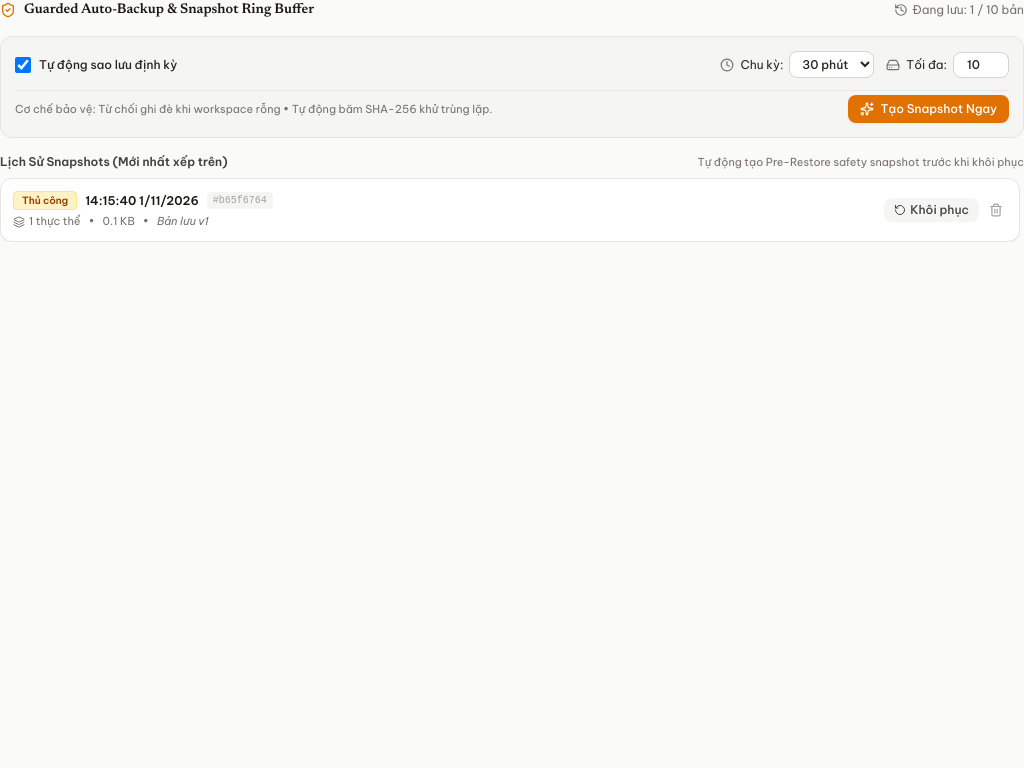
PR 1 (Phase 25): Auto-Backup Restore Safety & Confirmation Gate › Test 2: When user clicks "Hủy" (Cancel) in confirmation dialog, modal closes and restore is NOT executed
// Open confirmation modal
Click the button "Khôi phục": {"x": 932, "y": 210} [884,198,979,222]
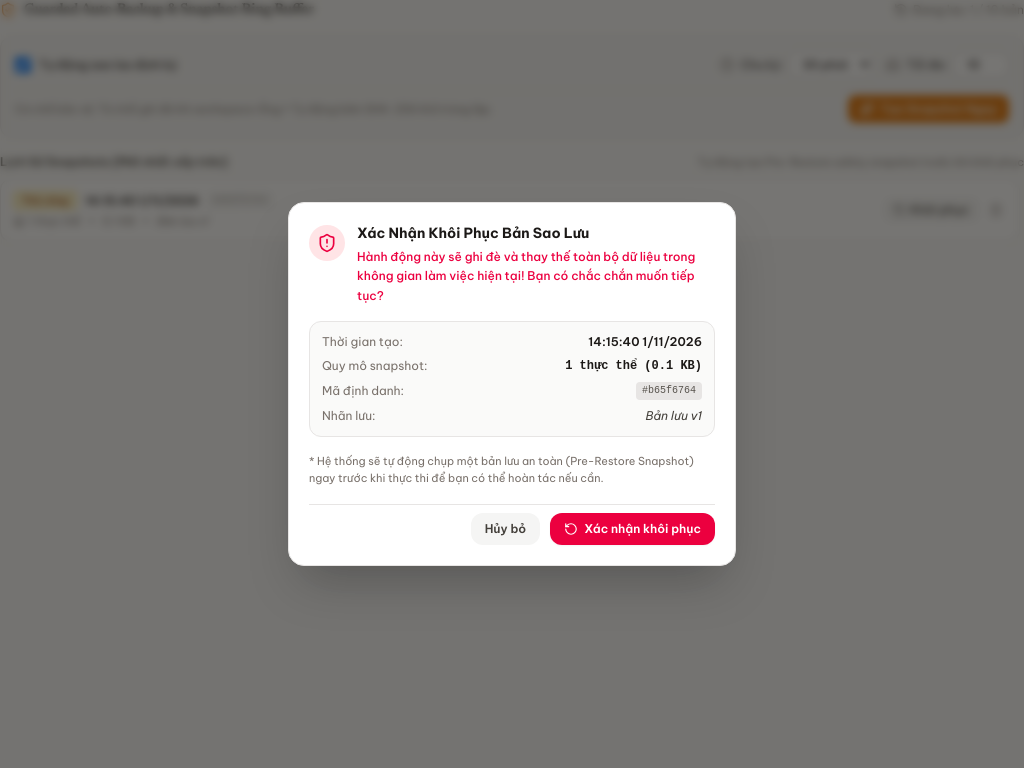
Now the dialog with test id "auto-backup-restore-confirm-dialog" is shown
// Click cancel button
Click the button with test id "auto-backup-restore-cancel-btn": {"x": 505, "y": 529} [471,513,540,545]
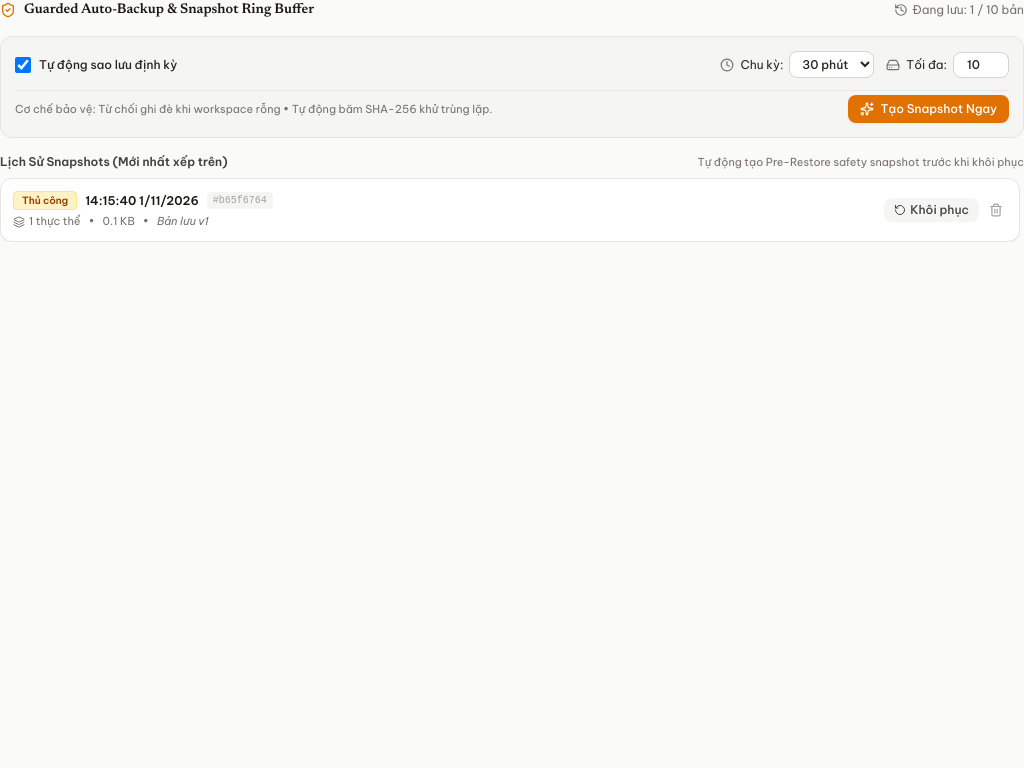
Now the dialog with test id "auto-backup-restore-confirm-dialog" is gone
